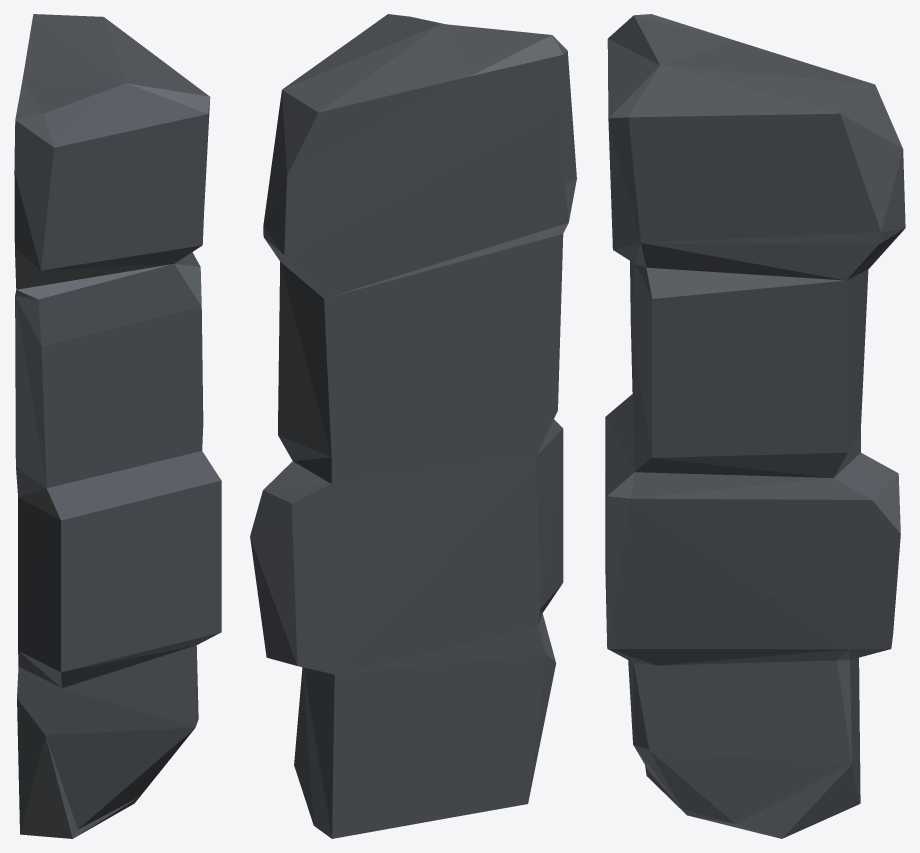
The model's file is MCastle_BrickCorners_01.FBX.
3 renders of one model, left to right at view 1: azimuth 30°, elevation 25°; view 2: azimuth 150°, elevation 25°; view 3: azimuth 270°, elevation 25°, orthographic.
Parts seen in each view (by area): view 1: MCastle_BrickCorners_01_LOD0; view 2: MCastle_BrickCorners_01_LOD0; view 3: MCastle_BrickCorners_01_LOD0.
Boxes of the visible parts, x1,y1,x2,y2 form: MCastle_BrickCorners_01_LOD0: (14,14,221,838); MCastle_BrickCorners_01_LOD0: (250,14,576,838); MCastle_BrickCorners_01_LOD0: (605,14,905,838).
Size of what is drawn, in the model's own units: 1.18 by 4.36 by 1.58.
